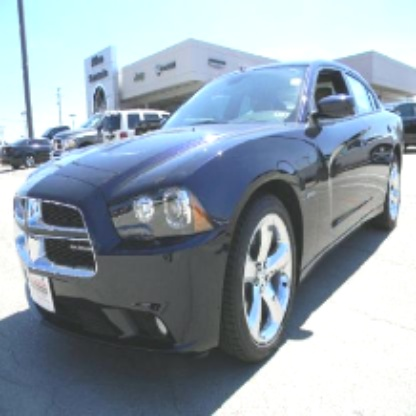Vehicle: (9, 57, 407, 369)
